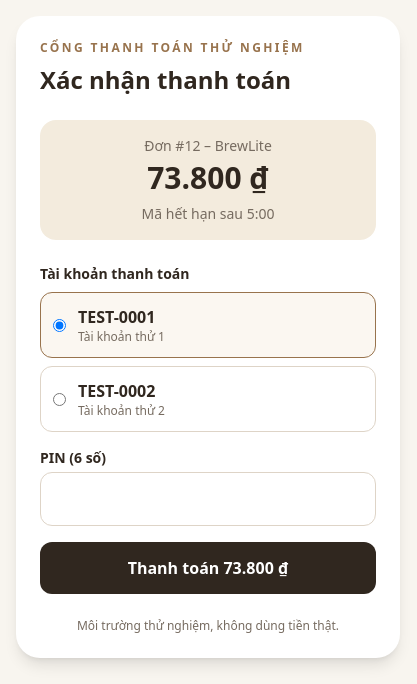
Test case: Trang xác nhận QR trên điện thoại (FR-18) › thiếu số dư thì báo không thành công kèm lý do
Click the radio button labelled "TEST-0002 Tài khoản thử 2".
click(60, 399)  # box [53,392,66,406]
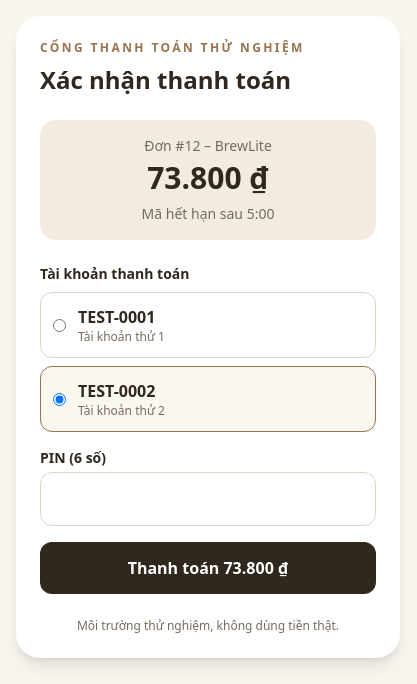
Type "123456" into the password field labelled "PIN (6 số)".
click(208, 499); type("123456")  # box [40,472,376,526]
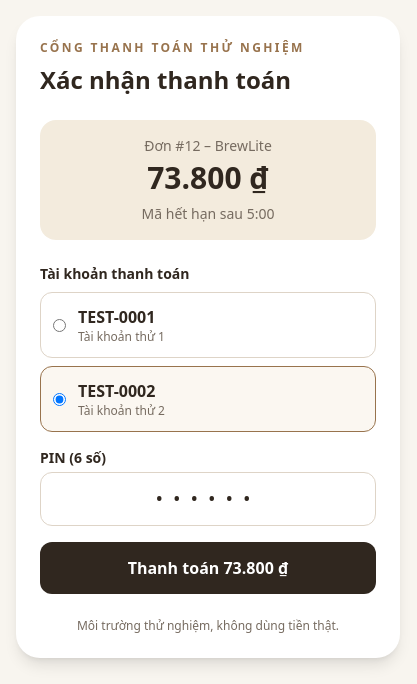
Click the button "Thanh toán 73.800 ₫".
click(208, 568)  # box [40,542,376,594]
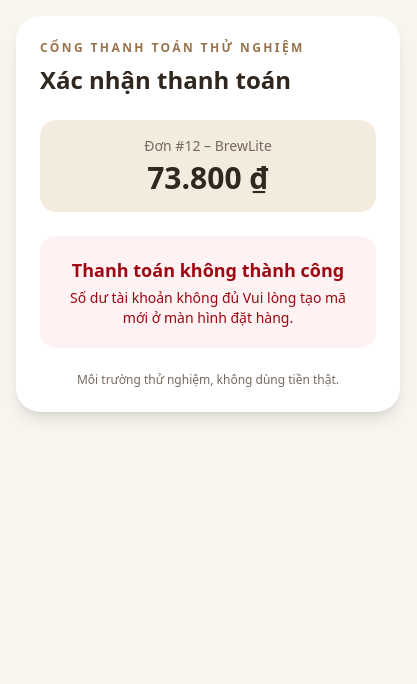
Expected: the text "Thanh toán không thành công" is shown, [60,256,356,284]
Expected: the text "Số dư tài khoản không đủ" is shown, [70,288,239,307]
